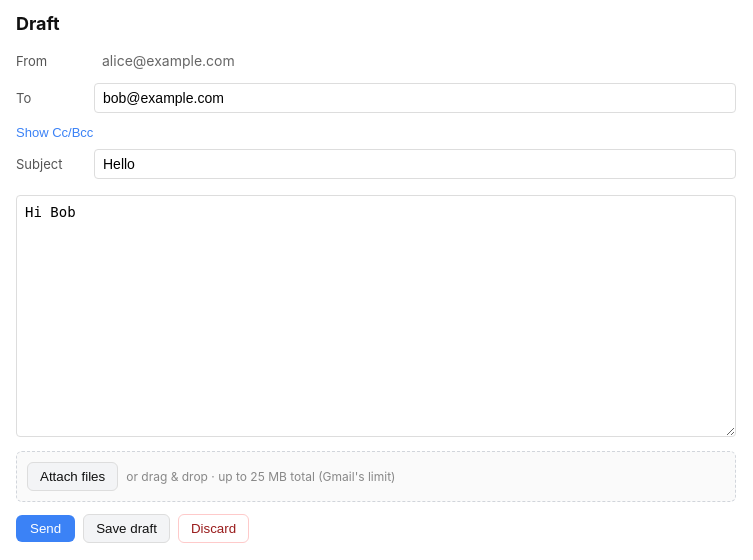
Test: Composer › auto-save failure renders an error indicator
The width and height of the screenshot is (753, 560).
Replace the text in the field named "Subject" with "x" at [415, 164], box x1=94 y1=149 x2=736 y2=179
Wait 900 ms
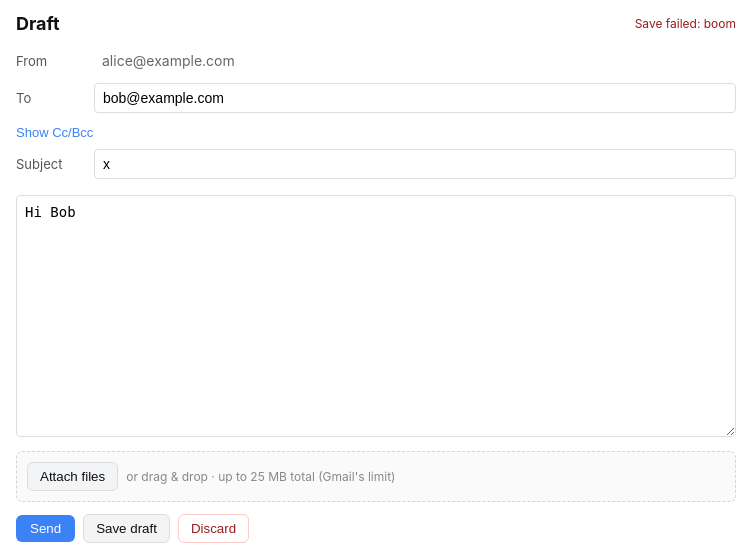
Check: the text with test id "save-status" shows "Save failed", box x1=635 y1=16 x2=736 y2=31
